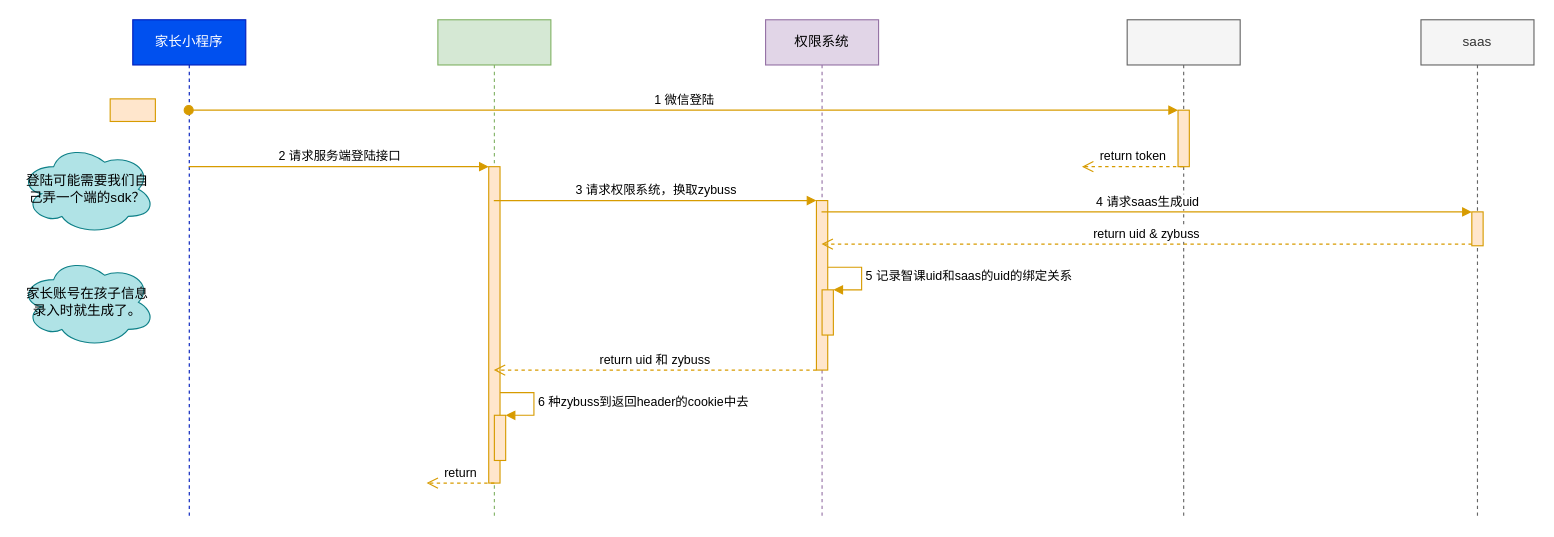
This 1554x537 diagram has some shape labels left out. The shapes that lost their labels are listed below. From the top down, each one's box as (x1, y1, x2, y2) in pixels, then its label:
(109, 98, 155, 121): 登陆
(437, 19, 551, 517): C端服务
(1126, 19, 1240, 517): 智课账号
